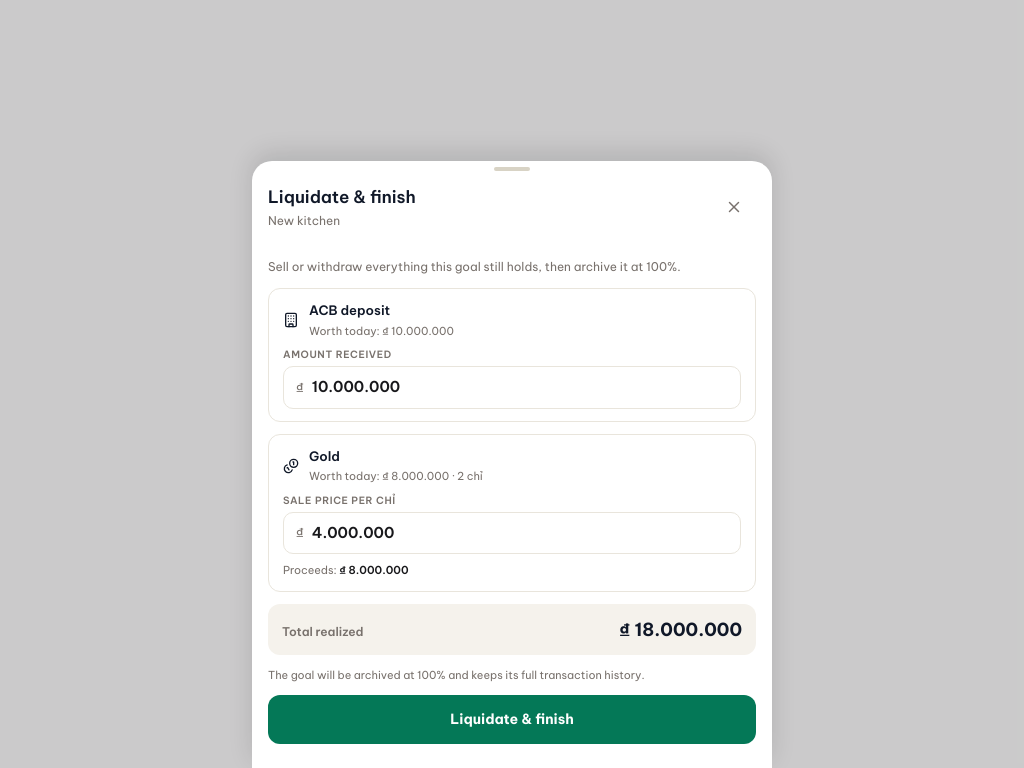
Test case: FinishGoalSheet › re-renders as a blocker when one appears between opening and submitting
The width and height of the screenshot is (1024, 768).
Click the button with test id "finish-goal-confirm" at (512, 720), box [268,695,756,744]
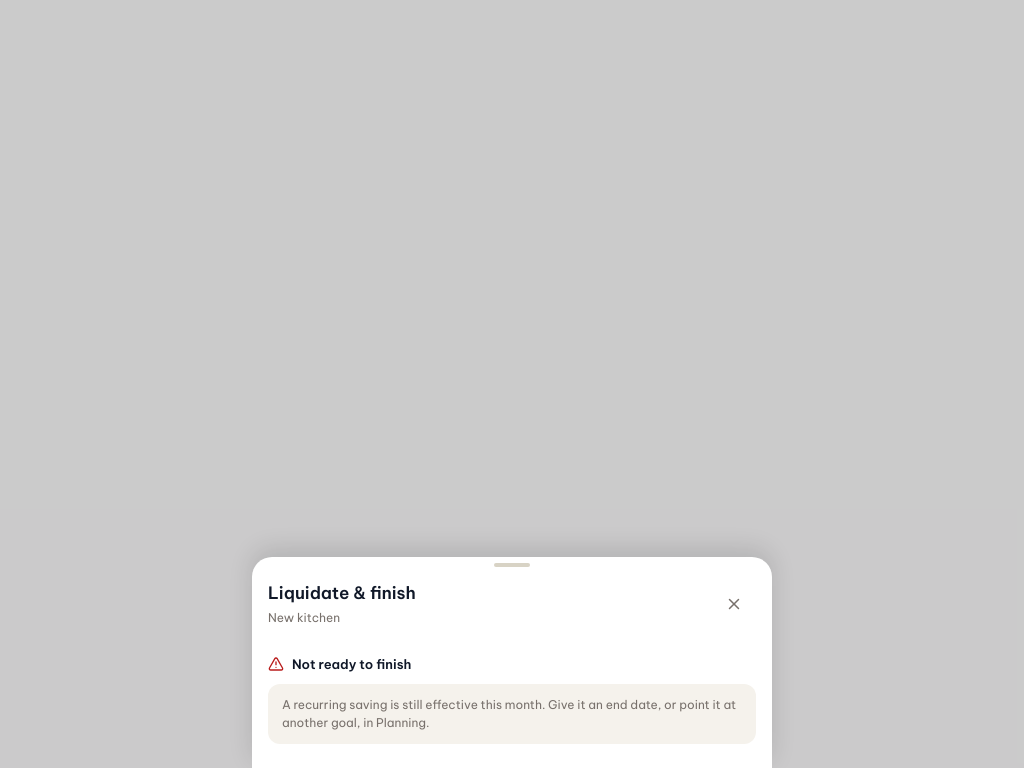
Expected: the element with test id "finish-goal-blockers" is shown, [268,640,756,744]
Expected: the text "recurring saving" is shown, [282,697,736,730]
